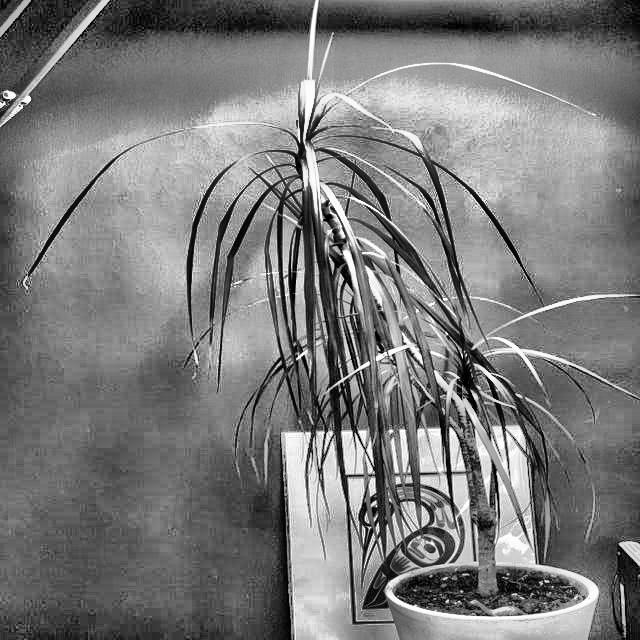plants: (158, 128, 603, 639)
